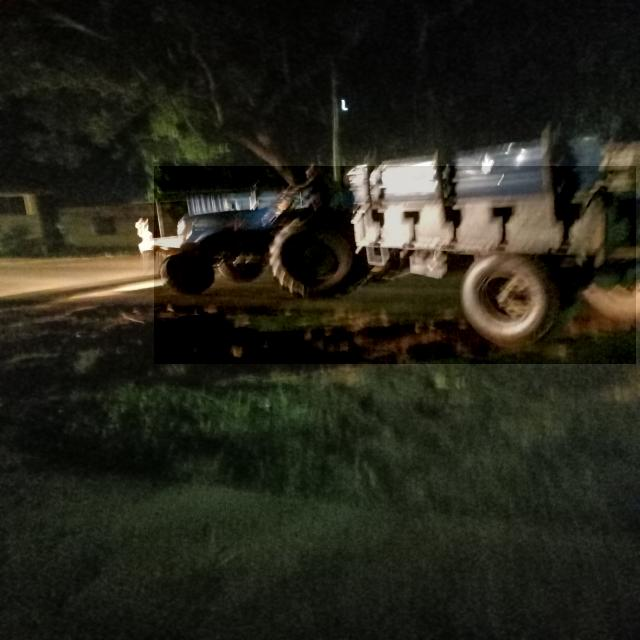Tractot: (154, 166, 636, 364)
